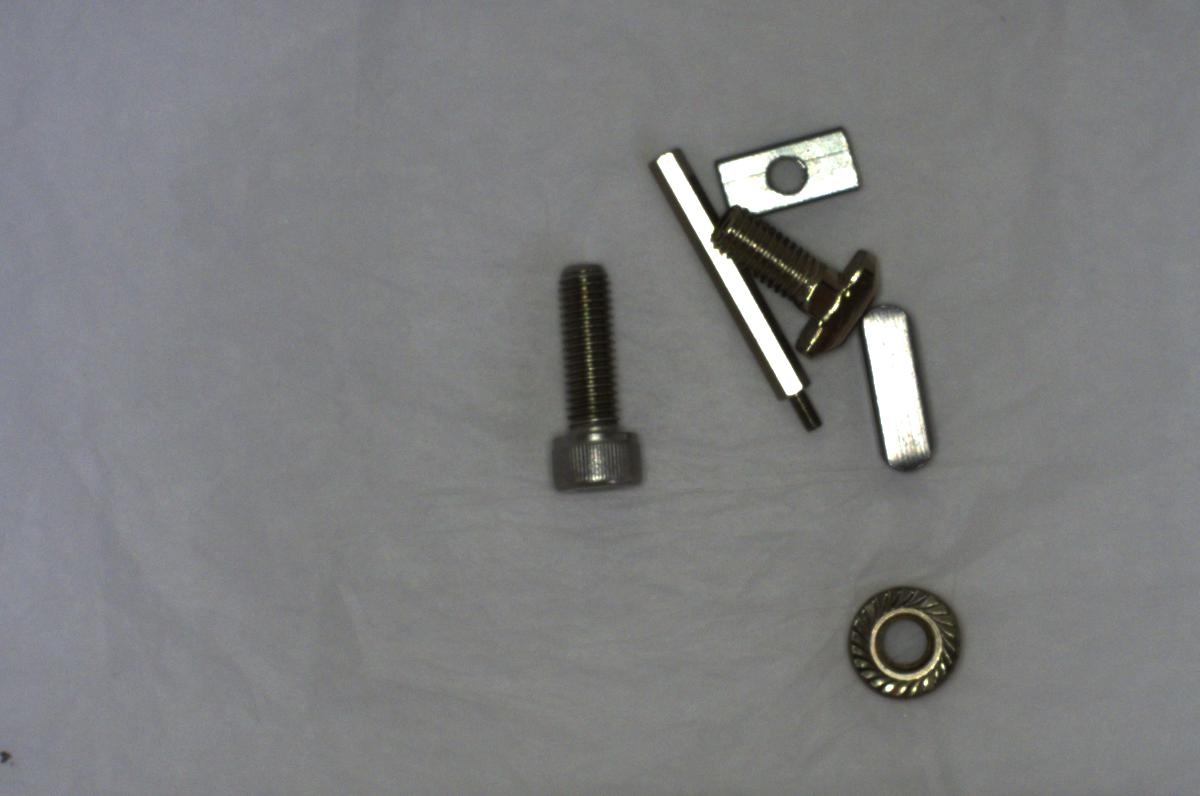Flange nut: (830, 574, 971, 704)
Hexagon screw: (523, 245, 656, 506)
Hexagonal steel column: (644, 144, 833, 440)
Keybar: (860, 298, 943, 485)
Rectangular nut: (708, 117, 875, 223)
T-shaped screw: (691, 203, 892, 358)
